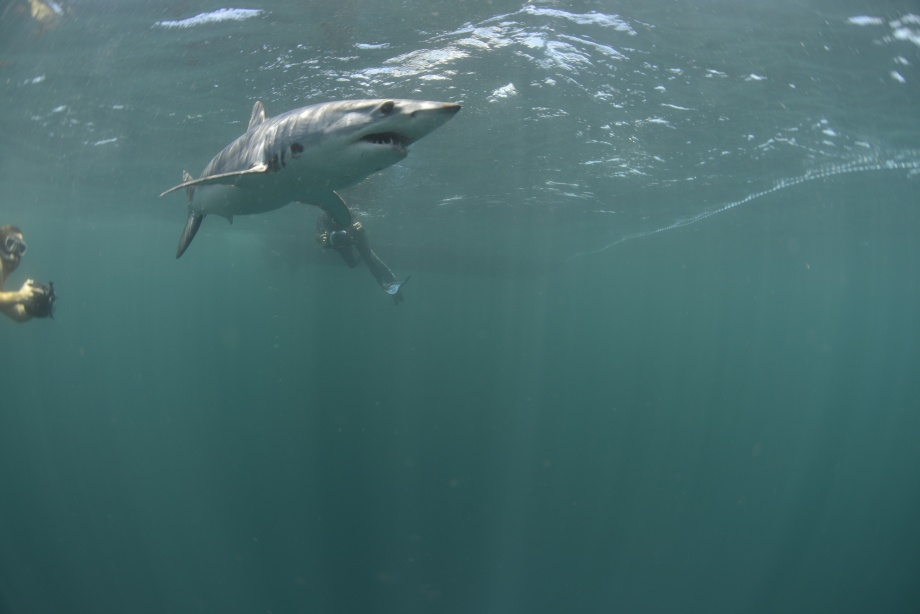Mako: (149, 85, 469, 264)
